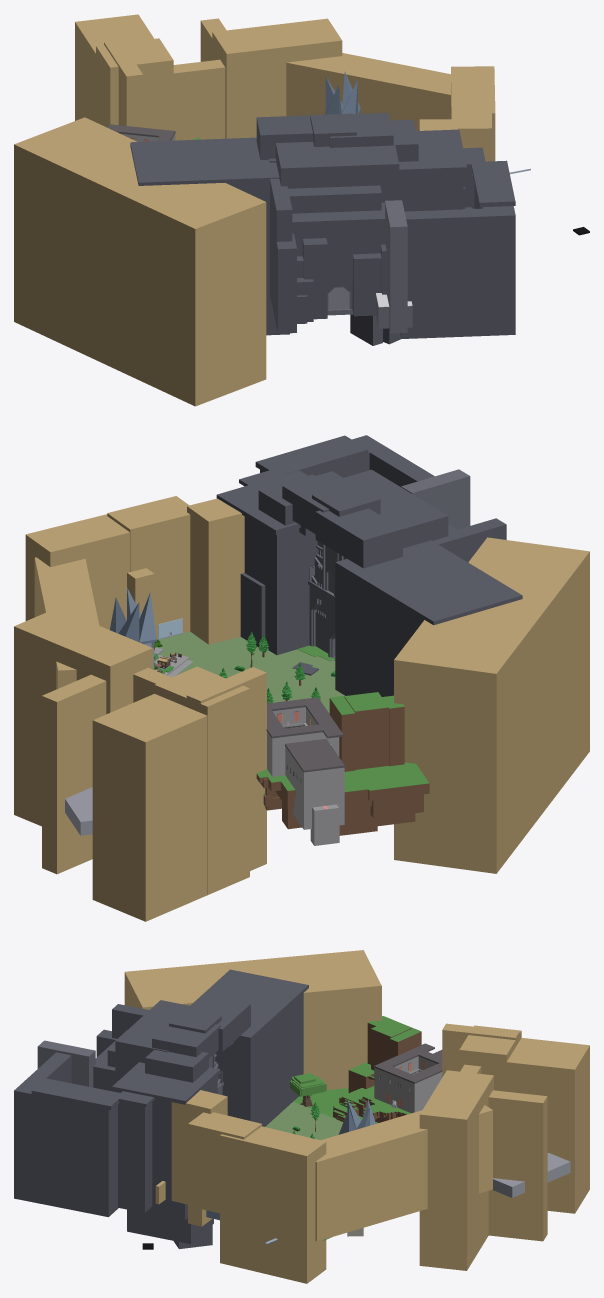
The model's file is world.glb.
3 views of the same model, one above another, from view 1: azimuth 30°, elevation 25°; view 2: azimuth 150°, elevation 25°; view 3: azimuth 270°, elevation 25° (orthographic). The views are drawn at different scales.
Visible parts, largest first — view 1: merged_c199_172_120_1, merged_c91_93_105_1, merged_c111_113_125_1, merged_c116_134_157_1, merged_c99_95_98_1; view 2: merged_c199_172_120_1, merged_c91_93_105_1, merged_c124_92_70_1, merged_c163_162_165_1, merged_c124_156_107_1, merged_c111_113_125_1, merged_c91_154_76_1, merged_c99_95_98_1, merged_c116_134_157_1, merged_c159_161_172_1, merged_c52_142_64_1; view 3: merged_c199_172_120_1, merged_c91_93_105_1, merged_c91_154_76_1, merged_c124_92_70_1, merged_c163_162_165_1, merged_c111_113_125_1, merged_c124_156_107_1, merged_c99_95_98_1, merged_c159_161_172_1, merged_c116_134_157_1.
Boxes of the visible parts, box(x1,y1,x2,y2) form: merged_c199_172_120_1: box(14, 14, 495, 406); merged_c91_93_105_1: box(130, 113, 515, 345); merged_c111_113_125_1: box(327, 200, 412, 333); merged_c116_134_157_1: box(325, 71, 360, 114); merged_c99_95_98_1: box(107, 124, 175, 141); merged_c199_172_120_1: box(14, 496, 589, 921); merged_c91_93_105_1: box(216, 435, 522, 696); merged_c124_92_70_1: box(250, 652, 429, 835); merged_c163_162_165_1: box(154, 647, 344, 845); merged_c124_156_107_1: box(156, 631, 344, 713); merged_c111_113_125_1: box(308, 469, 470, 660); merged_c91_154_76_1: box(221, 638, 429, 806); merged_c99_95_98_1: box(266, 697, 344, 784); merged_c116_134_157_1: box(110, 587, 156, 643); merged_c159_161_172_1: box(65, 632, 183, 835); merged_c52_142_64_1: box(219, 632, 335, 703); merged_c199_172_120_1: box(124, 950, 589, 1283); merged_c91_93_105_1: box(14, 969, 363, 1249); merged_c91_154_76_1: box(290, 1016, 421, 1123); merged_c124_92_70_1: box(315, 1023, 433, 1131); merged_c163_162_165_1: box(374, 1056, 442, 1113); merged_c111_113_125_1: box(37, 1040, 223, 1094); merged_c124_156_107_1: box(265, 1101, 343, 1240); merged_c99_95_98_1: box(374, 1043, 442, 1092); merged_c159_161_172_1: box(492, 1153, 570, 1197); merged_c116_134_157_1: box(206, 1099, 375, 1220).
Size of the model in its own units: 1511 by 691 by 1798.
